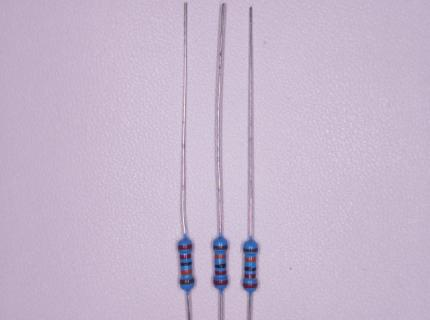Black band: (215, 263, 226, 269), (180, 261, 192, 266), (244, 267, 256, 271)
Brown band: (180, 279, 195, 285), (243, 248, 258, 253), (213, 245, 227, 250)
Orange band: (181, 269, 192, 275), (214, 254, 226, 259), (245, 257, 257, 262)
Red band: (243, 283, 258, 289), (178, 244, 192, 250), (179, 253, 191, 259), (213, 280, 227, 285), (215, 271, 227, 276), (244, 274, 256, 278)
